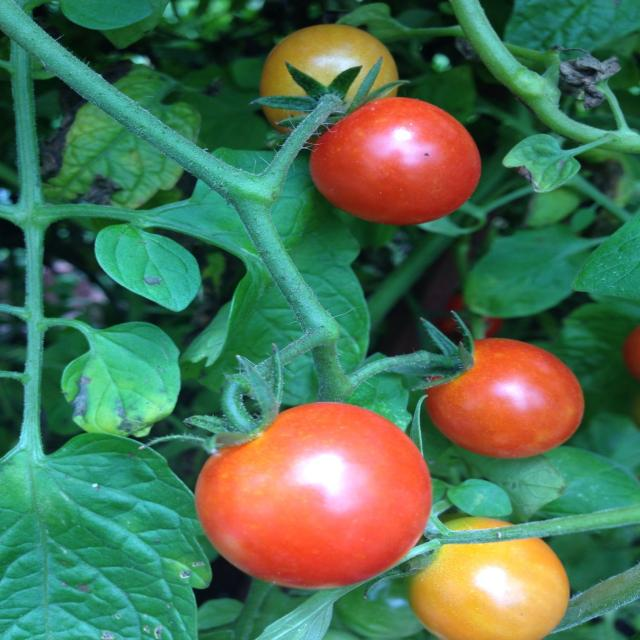level 4: (395, 516, 573, 640), (274, 35, 393, 123)
level 6: (193, 399, 431, 581), (310, 105, 479, 221), (434, 342, 588, 458)
